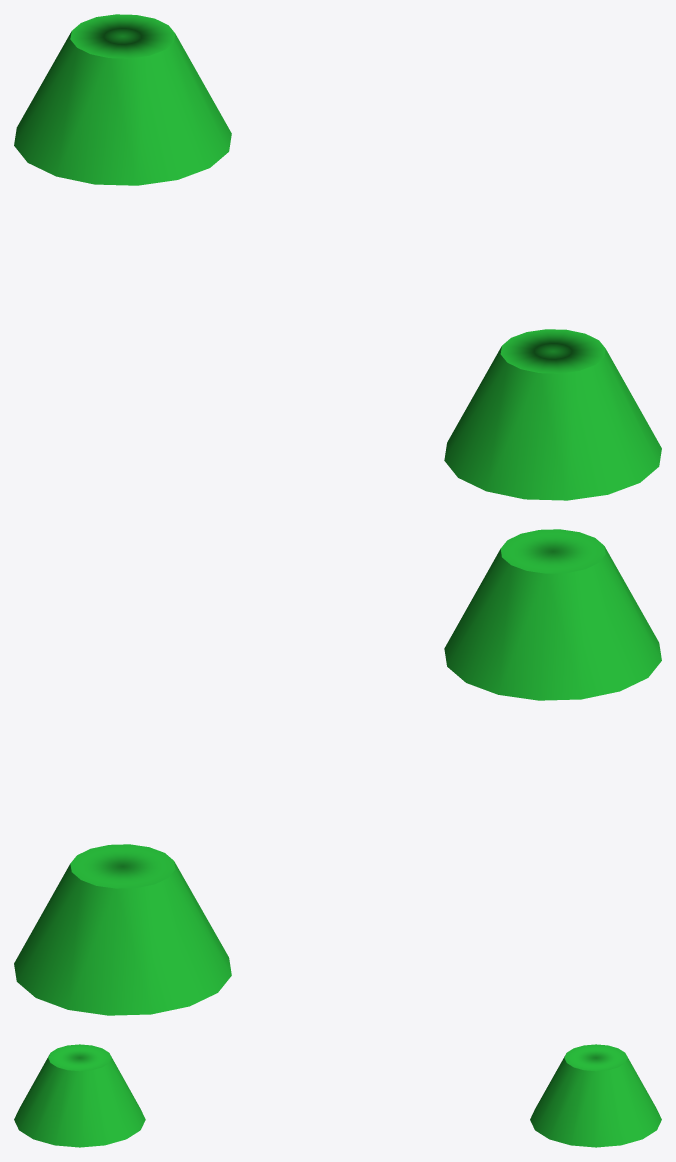
File: kitchen-lampshade_inside.obj
3 renders of one model, top to bottom at view 1: azimuth 30°, elevation 25°; view 2: azimuth 150°, elevation 25°; view 3: azimuth 270°, elevation 25°, orthographic. The views are drawn at different scales.
Visible parts, largest first — view 1: spotlamp_Cylinder.037, spotlamp.001_Cylinder.037; view 2: spotlamp_Cylinder.037, spotlamp.001_Cylinder.037; view 3: spotlamp_Cylinder.037, spotlamp.001_Cylinder.037.
Part boxes in pixels (x1,y1,x2,y2): spotlamp_Cylinder.037: (14,14,231,185); spotlamp.001_Cylinder.037: (444,329,661,500); spotlamp_Cylinder.037: (14,844,231,1015); spotlamp.001_Cylinder.037: (444,529,661,700); spotlamp_Cylinder.037: (530,1044,661,1147); spotlamp.001_Cylinder.037: (14,1044,145,1147).
Size of the model in its own units: 0.498 by 0.258 by 2.45.
1 material, 1 textured.
